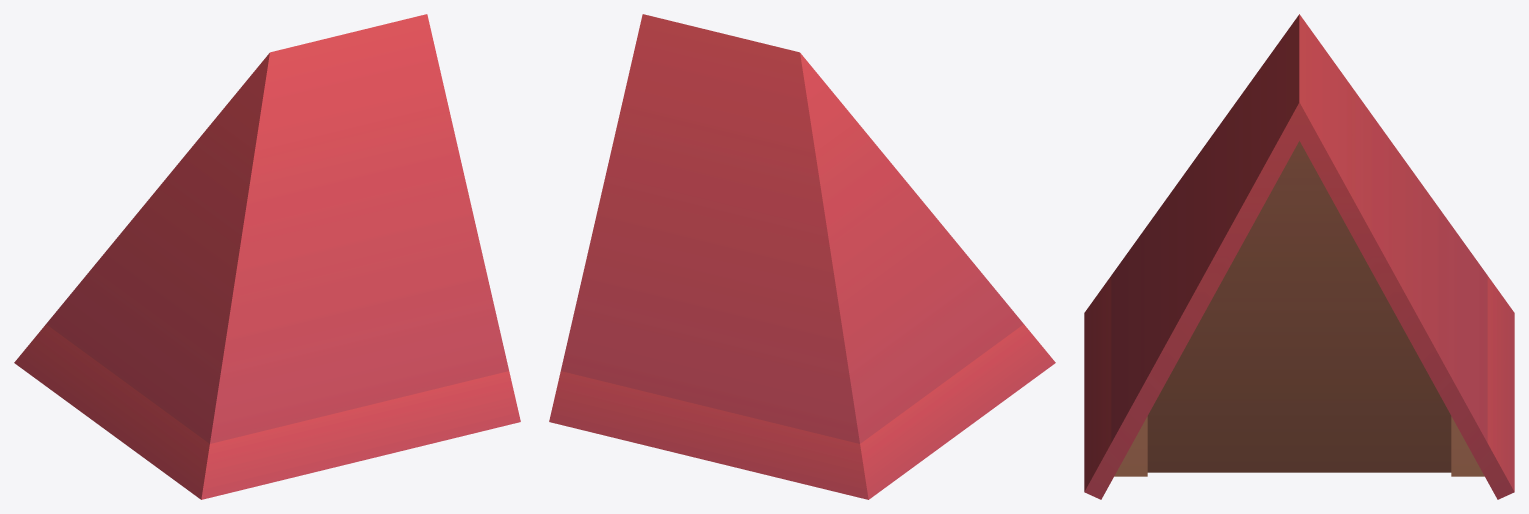
File: roof-high-gable-end.glb
3 views of the same model, side by side, from view 1: azimuth 30°, elevation 25°; view 2: azimuth 150°, elevation 25°; view 3: azimuth 270°, elevation 25° (orthographic). The views are drawn at different scales.
Parts seen in each view (by area): view 1: roof-high-gable-end; view 2: roof-high-gable-end; view 3: roof-high-gable-end.
Part boxes in pixels (x1,y1,x2,y2): roof-high-gable-end: (14,14,520,499); roof-high-gable-end: (549,14,1055,499); roof-high-gable-end: (1084,14,1514,499).
Size of the model in its own units: 1.12 by 1.16 by 1.13.
Materials: 1 (1 with a texture image).
